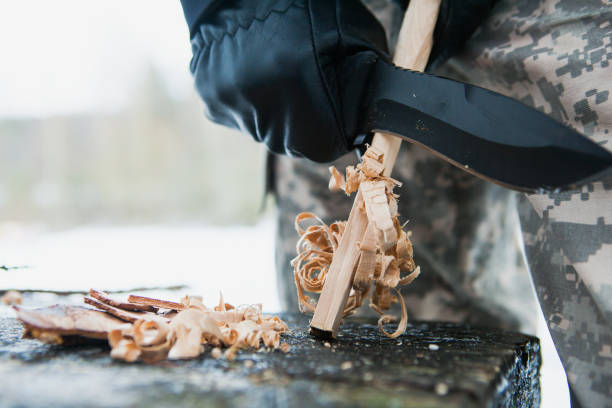knife: (333, 48, 612, 192)
